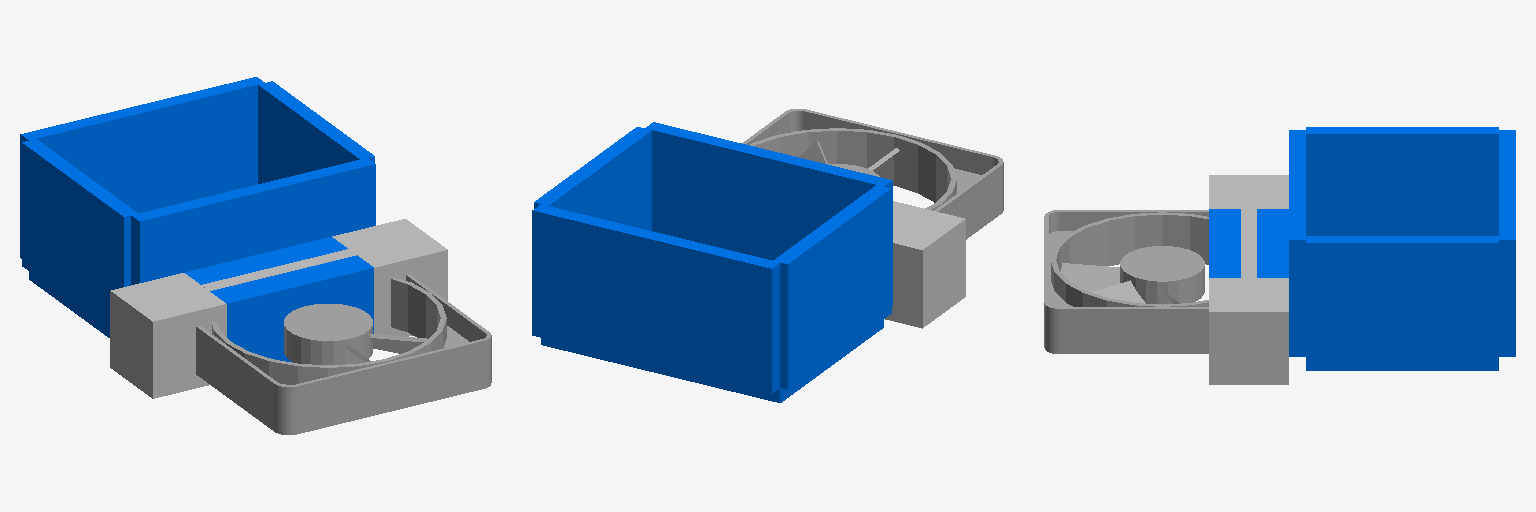
robot.urdf — battery_box_snap_2unit_switch:
<robot name="battery_box_snap_2unit_switch">

  <!-- BEGIN battery_box_snap content  -->


  <!-- Box link -->

    <link name="box">

        <!-- Box wall #0 -->
        <visual>
          <origin xyz="-0.0125 0.0 -0.04" rpy="0 0 0" />
          <geometry>
            <box size="0.08 0.12000000000000001 0.01" />
          </geometry>
          <material name="box_wall_mat_0">
            <color rgba="0 0.5 1 1"/>
          </material>
        </visual>
        <collision>
          <origin xyz="-0.0125 0.0 -0.04" rpy="0 0 0" />
          <geometry>
            <box size="0.08 0.12000000000000001 0.01" />
          </geometry>
        </collision>

        <!-- Box wall #1 -->
        <visual>
          <origin xyz="-0.0125 0.0 0.12" rpy="0 0 0" />
          <geometry>
            <box size="0.08 0.12000000000000001 0.01" />
          </geometry>
          <material name="box_wall_mat_1">
            <color rgba="0 0.5 1 1"/>
          </material>
        </visual>
        <collision>
          <origin xyz="-0.0125 0.0 0.12" rpy="0 0 0" />
          <geometry>
            <box size="0.08 0.12000000000000001 0.01" />
          </geometry>
        </collision>

        <!-- Box wall #2 -->
        <visual>
          <origin xyz="-0.0125 -0.065 0.04" rpy="0 0 0" />
          <geometry>
            <box size="0.08 0.01 0.16" />
          </geometry>
          <material name="box_wall_mat_2">
            <color rgba="0 0.5 1 1"/>
          </material>
        </visual>
        <collision>
          <origin xyz="-0.0125 -0.065 0.04" rpy="0 0 0" />
          <geometry>
            <box size="0.08 0.01 0.16" />
          </geometry>
        </collision>

        <!-- Box wall #3 -->
        <visual>
          <origin xyz="-0.0125 0.065 0.04" rpy="0 0 0" />
          <geometry>
            <box size="0.08 0.01 0.16" />
          </geometry>
          <material name="box_wall_mat_3">
            <color rgba="0 0.5 1 1"/>
          </material>
        </visual>
        <collision>
          <origin xyz="-0.0125 0.065 0.04" rpy="0 0 0" />
          <geometry>
            <box size="0.08 0.01 0.16" />
          </geometry>
        </collision>

        <!-- Box wall #4 -->
        <visual>
          <origin xyz="-0.0575 0.0 0.04" rpy="0 0 0" />
          <geometry>
            <box size="0.01 0.12000000000000001 0.16" />
          </geometry>
          <material name="box_wall_mat_4">
            <color rgba="0 0.5 1 1"/>
          </material>
        </visual>
        <collision>
          <origin xyz="-0.0575 0.0 0.04" rpy="0 0 0" />
          <geometry>
            <box size="0.01 0.12000000000000001 0.16" />
          </geometry>
        </collision>

    </link>


  <!-- Snap connector (2-unit) -->

    <!-- Snap connector (2-unit) -->

    <link name="middle_plastic">
      <visual>
        <origin xyz="0 0 0" rpy="0 0 0" />
        <geometry>
          <box size="0.1 0.05 0.05" />
        </geometry>
        <material name="middle_plastic_mat">
          <color rgba="0.0 0.5 1.0 1.0"/>
        </material>
      </visual>
      <collision>
        <origin xyz="0 0 0" rpy="0 0 0" />
        <geometry>
          <box size="0.1 0.05 0.05" />
        </geometry>
      </collision>
    </link>


    <link name="start_metal">
      <visual>
        <origin xyz="0 0 0" rpy="0 0 0" />
        <geometry>
          <box size="0.05 0.05 0.05" />
        </geometry>
        <material name="start_metal_mat">
          <color rgba="0.8 0.8 0.8 1.0"/>
        </material>
      </visual>
      <collision>
        <origin xyz="0 0 0" rpy="0 0 0" />
        <geometry>
          <box size="0.05 0.05 0.05" />
        </geometry>
      </collision>
    </link>


    <link name="end_metal">
      <visual>
        <origin xyz="0 0 0" rpy="0 0 0" />
        <geometry>
          <box size="0.05 0.05 0.05" />
        </geometry>
        <material name="end_metal_mat">
          <color rgba="0.8 0.8 0.8 1.0"/>
        </material>
      </visual>
      <collision>
        <origin xyz="0 0 0" rpy="0 0 0" />
        <geometry>
          <box size="0.05 0.05 0.05" />
        </geometry>
      </collision>
    </link>


    <link name="line">
      <visual>
        <origin xyz="0 0 0" rpy="0 0 0" />
        <geometry>
          <box size="0.1 0.01 0.0001" />
        </geometry>
        <material name="line_mat">
          <color rgba="0.8 0.8 0.8 1.0"/>
        </material>
      </visual>
      <collision>
        <origin xyz="0 0 0" rpy="0 0 0" />
        <geometry>
          <box size="0.1 0.01 0.0001" />
        </geometry>
      </collision>
    </link>



        <joint name="start_metal_joint" type="fixed">
          <parent link="middle_plastic"/>
          <child link="start_metal"/>
          <origin xyz="-0.07500000000000001 0 0" rpy="0 0 0"/>
        </joint>


        <joint name="end_metal_joint" type="fixed">
          <parent link="middle_plastic"/>
          <child link="end_metal"/>
          <origin xyz="0.07500000000000001 0 0" rpy="0 0 0"/>
        </joint>


        <joint name="line_joint" type="fixed">
          <parent link="middle_plastic"/>
          <child link="line"/>
          <origin xyz="0 0 0.025050000000000003" rpy="0 0 0"/>
        </joint>



  <!-- Attach snap to box -->

    <!-- Attach the box directly to the snap connector -->
    <joint name="attach_box_to_snap" type="fixed">
      <parent link="middle_plastic"/>
      <child link="box"/>
      <origin xyz="0.04 0.095 0.0375" rpy="0 -1.5707963267948966 0"/>
    </joint>


  <!-- BEGIN switch.urdf content     -->
	<link name="base"><inertial><mass value="0.1" /><inertia ixx="1" ixy="0" ixz="0" iyy="1" iyz="0" izz="1" /></inertial></link>
	<link name="link_0">
		<visual name="switch-1">
			<origin xyz="0 0 0" />
			<geometry>
				<mesh filename="textured_objs/original-14.obj" scale="0.1 0.1 0.1"/>
			</geometry>
		</visual>
		<collision>
			<origin xyz="0 0 0" />
			<geometry>
				<mesh filename="textured_objs/original-14.obj" scale="0.1 0.1 0.1"/>
			</geometry>
		</collision>
	<inertial><mass value="0.1" /><inertia ixx="1" ixy="0" ixz="0" iyy="1" iyz="0" izz="1" /></inertial></link>
	<joint name="joint_0" type="prismatic">
		<origin xyz="0 0 0" />
		<axis xyz="0 1 0" />
		<child link="link_0" />
		<parent link="link_1" />
		<limit effort="30" lower="0" upper="0.2959999999999998" velocity="1.0" />
	</joint>
	<link name="link_1">
		<!-- <visual name="base_body-2">
			<origin xyz="0 0 0" />
			<geometry>
				<mesh filename="textured_objs/original-4.obj" scale="0.1 0.1 0.1"/>
			</geometry>
		</visual> -->
		<!-- <visual name="base_body-2">
			<origin xyz="0 0 0" />
			<geometry>
				<mesh filename="textured_objs/original-3.obj" scale="0.1 0.1 0.1"/>
			</geometry>
		</visual> -->
		<visual name="base_body-2">
			<origin xyz="0 0 0" />
			<geometry>
				<mesh filename="textured_objs/original-2.obj" scale="0.1 0.1 0.1"/>
			</geometry>
		</visual>
		<visual name="base_body-2">
			<origin xyz="0 0 0" />
			<geometry>
				<mesh filename="textured_objs/original-8.obj" scale="0.1 0.1 0.1"/>
			</geometry>
		</visual>
		<visual name="base_body-2">
			<origin xyz="0 0 0" />
			<geometry>
				<mesh filename="textured_objs/original-13.obj" scale="0.1 0.1 0.1"/>
			</geometry>
		</visual>
		<visual name="base_body-2">
			<origin xyz="0 0 0" />
			<geometry>
				<mesh filename="textured_objs/original-9.obj" scale="0.1 0.1 0.1"/>
			</geometry>
		</visual>
		<visual name="base_body-2">
			<origin xyz="0 0 0" />
			<geometry>
				<mesh filename="textured_objs/original-5.obj" scale="0.1 0.1 0.1"/>
			</geometry>
		</visual>
		<visual name="base_body-2">
			<origin xyz="0 0 0" />
			<geometry>
				<mesh filename="textured_objs/original-6.obj" scale="0.1 0.1 0.1"/>
			</geometry>
		</visual>
		<visual name="base_body-2">
			<origin xyz="0 0 0" />
			<geometry>
				<mesh filename="textured_objs/original-11.obj" scale="0.1 0.1 0.1"/>
			</geometry>
		</visual>
		<visual name="base_body-2">
			<origin xyz="0 0 0" />
			<geometry>
				<mesh filename="textured_objs/original-12.obj" scale="0.1 0.1 0.1"/>
			</geometry>
		</visual>
		<visual name="base_body-2">
			<origin xyz="0 0 0" />
			<geometry>
				<mesh filename="textured_objs/original-7.obj" scale="0.1 0.1 0.1"/>
			</geometry>
		</visual>
		<!-- <visual name="base_body-2">
			<origin xyz="0 0 0" />
			<geometry>
				<mesh filename="textured_objs/original-1.obj" scale="0.1 0.1 0.1"/>
			</geometry>
		</visual> -->
		<visual name="base_body-2">
			<origin xyz="0 0 0" />
			<geometry>
				<mesh filename="textured_objs/original-10.obj" scale="0.1 0.1 0.1"/>
			</geometry>
		</visual>
		<!-- <collision>
			<origin xyz="0 0 0" />
			<geometry>
				<mesh filename="textured_objs/original-4.obj" scale="0.1 0.1 0.1"/>
			</geometry>
		</collision> -->
		<!-- <collision>
			<origin xyz="0 0 0" />
			<geometry>
				<mesh filename="textured_objs/original-3.obj" scale="0.1 0.1 0.1"/>
			</geometry>
		</collision> -->
		<collision>
			<origin xyz="0 0 0" />
			<geometry>
				<mesh filename="textured_objs/original-2.obj" scale="0.1 0.1 0.1"/>
			</geometry>
		</collision>
		<collision>
			<origin xyz="0 0 0" />
			<geometry>
				<mesh filename="textured_objs/original-8.obj" scale="0.1 0.1 0.1"/>
			</geometry>
		</collision>
		<collision>
			<origin xyz="0 0 0" />
			<geometry>
				<mesh filename="textured_objs/original-13.obj" scale="0.1 0.1 0.1"/>
			</geometry>
		</collision>
		<collision>
			<origin xyz="0 0 0" />
			<geometry>
				<mesh filename="textured_objs/original-9.obj" scale="0.1 0.1 0.1"/>
			</geometry>
		</collision>
		<collision>
			<origin xyz="0 0 0" />
			<geometry>
				<mesh filename="textured_objs/original-5.obj" scale="0.1 0.1 0.1"/>
			</geometry>
		</collision>
		<collision>
			<origin xyz="0 0 0" />
			<geometry>
				<mesh filename="textured_objs/original-6.obj" scale="0.1 0.1 0.1"/>
			</geometry>
		</collision>
		<collision>
			<origin xyz="0 0 0" />
			<geometry>
				<mesh filename="textured_objs/original-11.obj" scale="0.1 0.1 0.1"/>
			</geometry>
		</collision>
		<collision>
			<origin xyz="0 0 0" />
			<geometry>
				<mesh filename="textured_objs/original-12.obj" scale="0.1 0.1 0.1"/>
			</geometry>
		</collision>
		<collision>
			<origin xyz="0 0 0" />
			<geometry>
				<mesh filename="textured_objs/original-7.obj" scale="0.1 0.1 0.1"/>
			</geometry>
		</collision>
		<!-- <collision>
			<origin xyz="0 0 0" />
			<geometry>
				<mesh filename="textured_objs/original-1.obj" scale="0.1 0.1 0.1"/>
			</geometry>
		</collision> -->
		<collision>
			<origin xyz="0 0 0" />
			<geometry>
				<mesh filename="textured_objs/original-10.obj" scale="0.1 0.1 0.1"/>
			</geometry>
		</collision>
	<inertial><mass value="0.1" /><inertia ixx="1" ixy="0" ixz="0" iyy="1" iyz="0" izz="1" /></inertial></link>
	<joint name="joint_1" type="fixed">
		<origin rpy="1.570796326794897 0 -1.570796326794897" xyz="0 0 0" />
		<child link="link_1" />
		<parent link="base" />
	</joint>


  <!-- Attach the switch base to middle_plastic at -y    -->

  <joint name="attach_switch_to_snap" type="fixed">
    <parent link="middle_plastic"/>
    <child link="base"/>
    <origin xyz="0 -0.055 0.0" rpy="0 1.5707963267948966 0"/>
  </joint>

</robot>

--- Facts derived from the render (not from the file) ---
Views: 3 orthographic renders of the robot side by side, from view 1: azimuth 30°, elevation 25°; view 2: azimuth 150°, elevation 25°; view 3: azimuth 270°, elevation 25°.
Model battery_box_snap_2unit_switch with 8 links and 7 joints (1 prismatic, 6 fixed), rooted at middle_plastic, posed every joint at zero.
Links seen in each view (by area): view 1: box, link_1, middle_plastic, start_metal, end_metal, line; view 2: box, link_1, start_metal; view 3: box, link_1, end_metal, middle_plastic, start_metal, line.
Boxes of the visible links, x1,y1,x2,y2 form: box: (20, 77, 375, 337); link_1: (196, 274, 491, 434); middle_plastic: (185, 237, 373, 362); start_metal: (110, 273, 226, 398); end_metal: (332, 219, 447, 336); line: (202, 249, 356, 290); box: (532, 122, 892, 402); link_1: (742, 109, 1003, 239); start_metal: (885, 201, 965, 328); box: (1289, 127, 1515, 370); link_1: (1044, 210, 1208, 353); end_metal: (1209, 278, 1288, 384); middle_plastic: (1209, 209, 1288, 277); start_metal: (1209, 175, 1288, 208); line: (1241, 209, 1256, 277).
Size in the robot's own frame: 0.2 by 0.2917 by 0.09 metres.
Meshes: 11 distinct files referenced, 5 mesh visuals loaded (5 OBJ); not drawn: 6 (reference not matched to a file when rendering).
